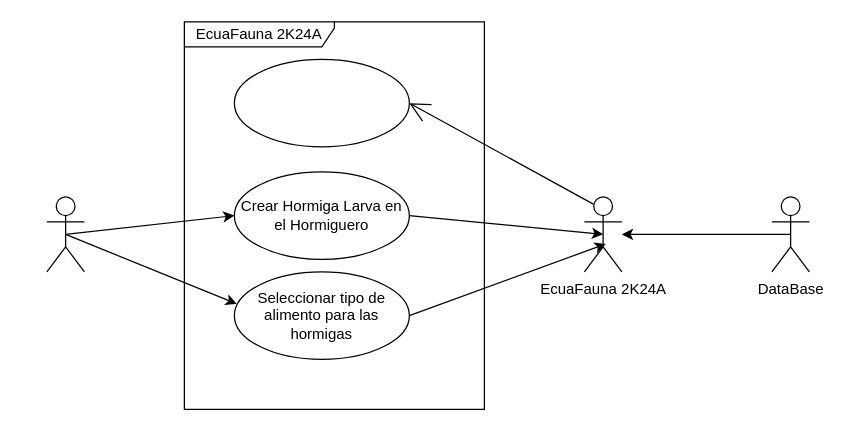
The diagram is 845 pixels wide and 431 high, and some of its shapes have lost their labels. Each missing label, with the centre of its shape:
Entomologo: the point at 65,234
Obtener el registro total del hormiguero: the point at 321,102
